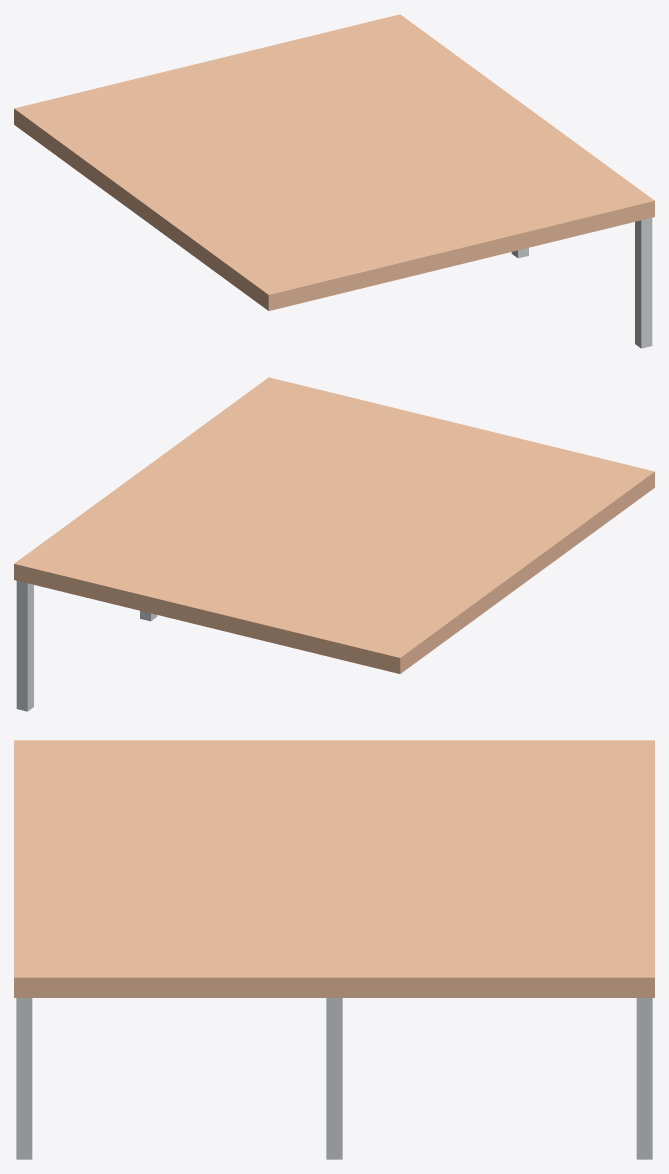
Rendered from desk-row-m2.glb.
The picture shows the model from 3 angles, top to bottom: view 1: azimuth 30°, elevation 25°; view 2: azimuth 150°, elevation 25°; view 3: azimuth 270°, elevation 25°; orthographic projection. The views are drawn at different scales.
Parts seen in each view (by area): view 1: desktop, shared-corner-leg; view 2: desktop, shared-corner-leg; view 3: desktop, shared-corner-leg (×3).
Boxes of the visible parts, bbox=[...] form: desktop: bbox=[14, 14, 654, 310]; shared-corner-leg: bbox=[635, 218, 652, 348]; desktop: bbox=[14, 377, 654, 673]; shared-corner-leg: bbox=[16, 581, 33, 711]; desktop: bbox=[14, 740, 654, 997]; shared-corner-leg (×3): bbox=[16, 998, 652, 1159].
Bounding box in the file's own units: 3.5 × 1.26 × 4.
Materials: 1 (1 with a texture image).
